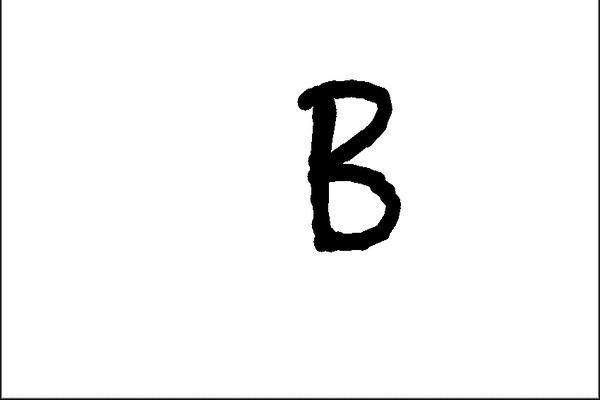B: (288, 70, 409, 262)
